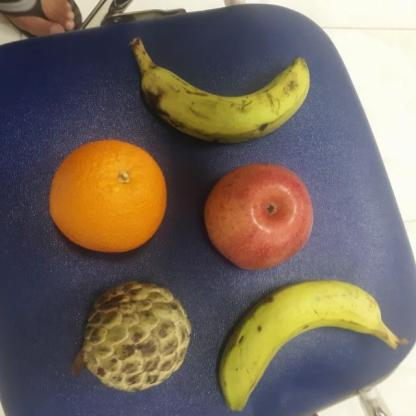annona: (83, 279, 193, 394)
apple: (201, 162, 315, 272)
banana: (214, 278, 390, 412), (135, 50, 312, 146)
orange: (49, 140, 168, 254)
